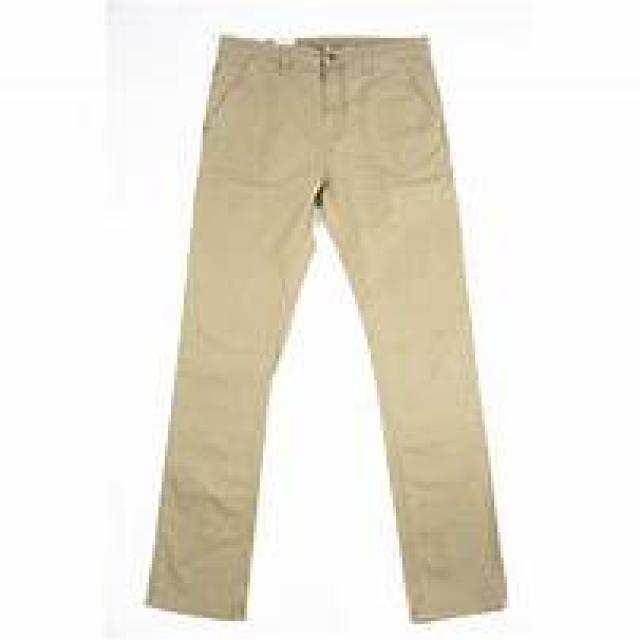long-pants: (140, 36, 507, 628)
